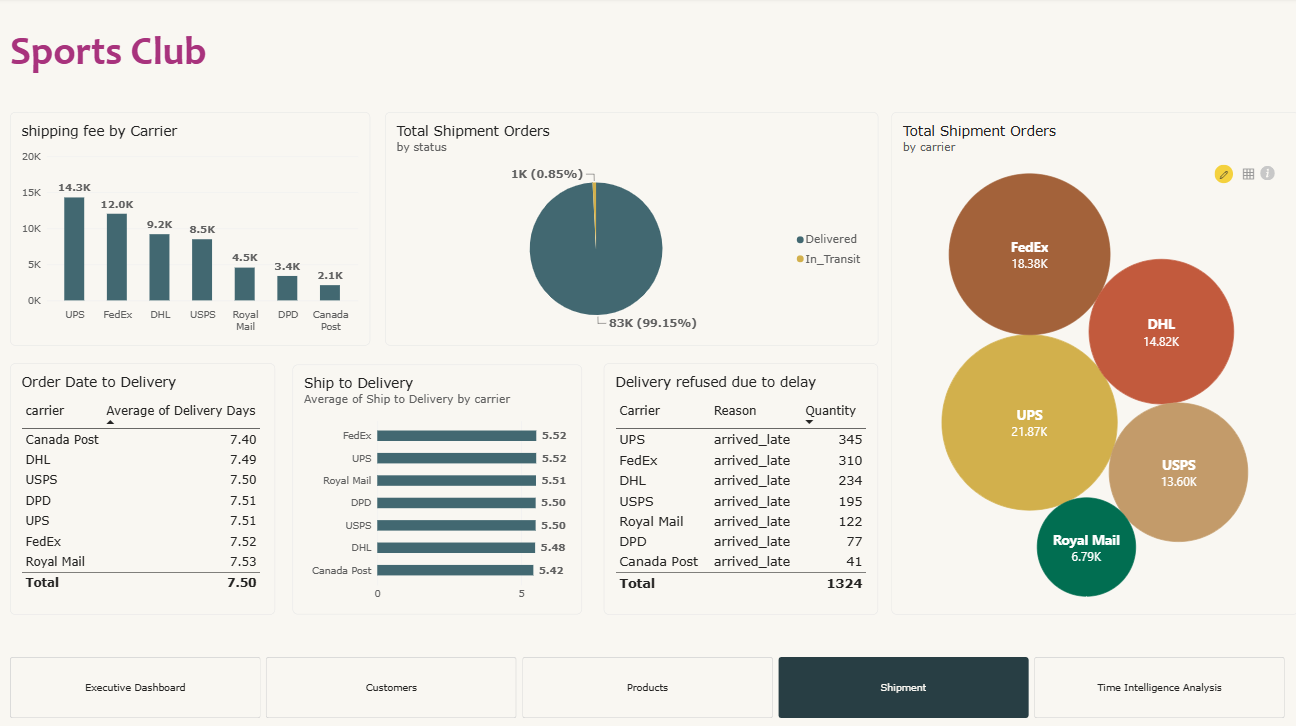

What the dashboard file says about the page in this screenshot:
{"tool":"powerbi","page":{"name":"Shipment","canvas":[1920,1080],"ordinal":3},"visuals":[{"type":"textbox","box":[22.1,42.3,318.1,107.9],"z":0},{"type":"columnChart","title":"shipping fee by Carrier","fields":{"Category":["shipments.carrier"],"Y":["Sum(orders.shipping_fee)"]},"box":[22.1,169.3,530.1,344.2],"z":1},{"type":"tableEx","title":"Order Date to Delivery","fields":{"Values":["shipments.carrier","Avg(shipments.Delivery Days)"]},"box":[22,540,390,370],"z":2},{"type":"pieChart","fields":{"Category":["shipments.status"],"Y":["Key Measures.Total Shipment Orders"]},"box":[574,170,726,344],"z":3},{"type":"tableEx","title":"Delivery refused due to delay","fields":{"Values":["shipments.carrier","returns.reason","Key Measures.Quantity"]},"box":[896,540,404,370],"z":4},{"type":"clusteredBarChart","title":"Ship to Delivery","fields":{"Category":["shipments.carrier"],"Y":["Avg(shipments.Ship to Delivery)"]},"box":[438,542,426,368],"z":5},{"type":"pageNavigator","box":[22.1,971.8,1877.3,90.2],"z":6},{"type":"packedBubble563FBEFA65CC43A48496B6BB533D9890","fields":{"category":["shipments.carrier"],"measure":["Key Measures.Total Shipment Orders"]},"box":[1320,170,600,740],"z":7}]}

Visuals, with their boxes in screenshot pixels (x1, y1, x2, y2), scaled from the page's 1920x1080 canvas onto the 1296x726 screenshot:
textbox: x1=15 y1=28 x2=230 y2=101
"shipping fee by Carrier" columnChart: x1=15 y1=114 x2=373 y2=345
"Order Date to Delivery" tableEx: x1=15 y1=363 x2=278 y2=612
pieChart - shipments.status x Key Measures.Total Shipment Orders: x1=387 y1=114 x2=878 y2=346
"Delivery refused due to delay" tableEx: x1=605 y1=363 x2=878 y2=612
"Ship to Delivery" clusteredBarChart: x1=296 y1=364 x2=583 y2=612
pageNavigator: x1=15 y1=653 x2=1282 y2=714
packedBubble563FBEFA65CC43A48496B6BB533D9890 - shipments.carrier x Key Measures.Total Shipment Orders: x1=891 y1=114 x2=1295 y2=612
